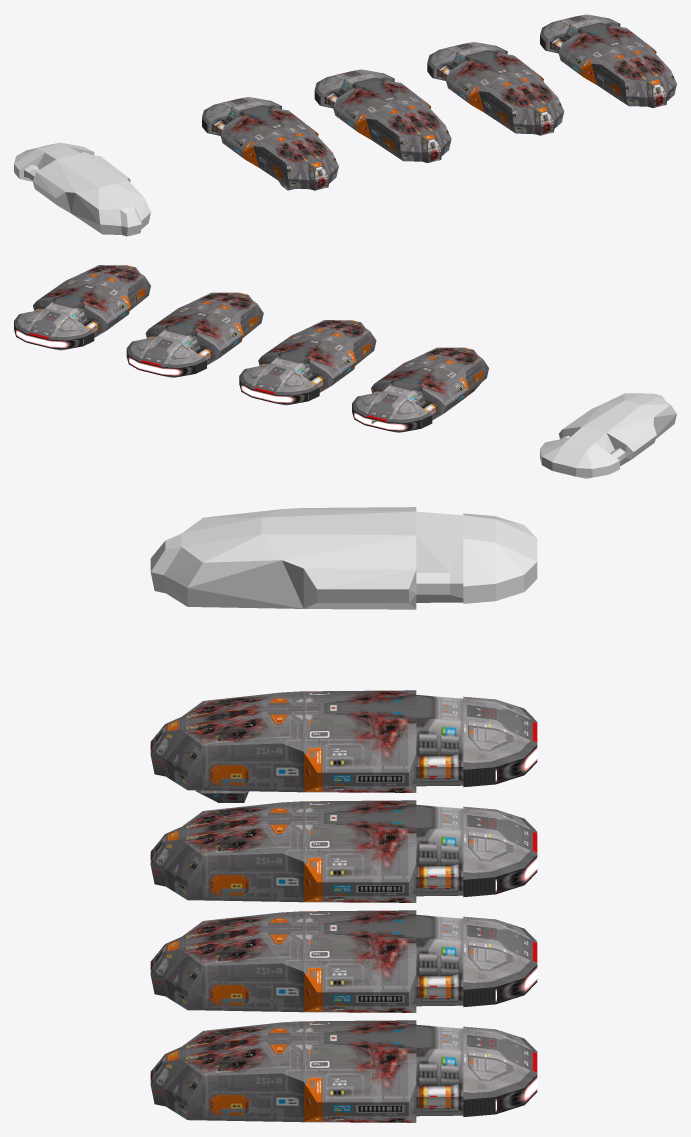
Rendered from hgn_bst_heavycorvette.dae.
3 views of the same model, one above another, from view 1: azimuth 30°, elevation 25°; view 2: azimuth 150°, elevation 25°; view 3: azimuth 270°, elevation 25° (orthographic). The views are drawn at different scales.
Visible parts, largest first — view 1: MULT[root_mesh]_LOD[3], MULT[root_mesh]_LOD[1], MULT[root_mesh]_LOD[2], COL[Root], MULT[root_mesh]_LOD[0]; view 2: MULT[root_mesh]_LOD[2], MULT[root_mesh]_LOD[0], COL[Root], MULT[root_mesh]_LOD[1], MULT[root_mesh]_LOD[3]; view 3: COL[Root], MULT[root_mesh]_LOD[2], MULT[root_mesh]_LOD[3], MULT[root_mesh]_LOD[1], MULT[root_mesh]_LOD[0].
Part boxes in pixels (<box>): MULT[root_mesh]_LOD[3]: <box>540,14,676,107</box>; MULT[root_mesh]_LOD[1]: <box>314,69,451,162</box>; MULT[root_mesh]_LOD[2]: <box>427,42,564,135</box>; COL[Root]: <box>14,142,150,236</box>; MULT[root_mesh]_LOD[0]: <box>202,97,338,190</box>; MULT[root_mesh]_LOD[2]: <box>126,292,263,377</box>; MULT[root_mesh]_LOD[0]: <box>352,347,488,432</box>; COL[Root]: <box>540,393,676,478</box>; MULT[root_mesh]_LOD[1]: <box>239,320,376,405</box>; MULT[root_mesh]_LOD[3]: <box>14,265,150,350</box>; COL[Root]: <box>150,507,537,609</box>; MULT[root_mesh]_LOD[2]: <box>150,910,537,1012</box>; MULT[root_mesh]_LOD[3]: <box>150,1020,537,1122</box>; MULT[root_mesh]_LOD[1]: <box>150,800,537,902</box>; MULT[root_mesh]_LOD[0]: <box>150,690,537,792</box>.
Bounding box in the file's own units: 147 × 9.24 × 41.33.
Materials: 24 (24 with a texture image).
